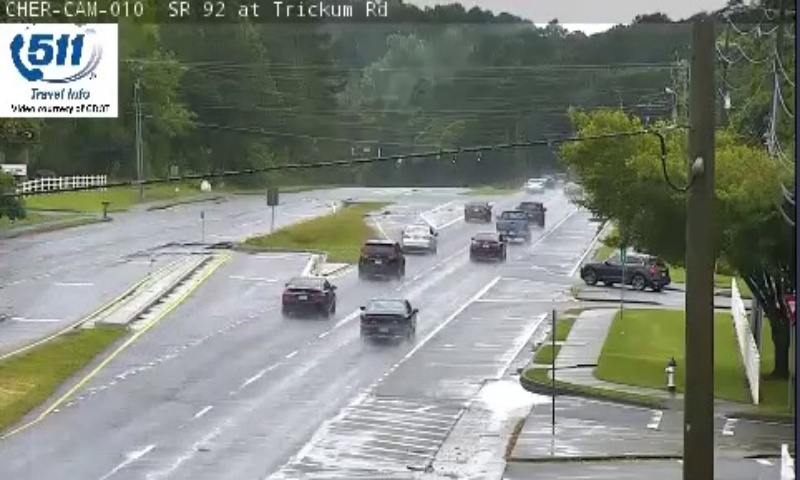car: (359, 299, 415, 341), (282, 276, 335, 313), (358, 240, 403, 274), (469, 232, 505, 259), (496, 209, 529, 238), (401, 223, 434, 252), (517, 200, 544, 225), (464, 202, 489, 221)
